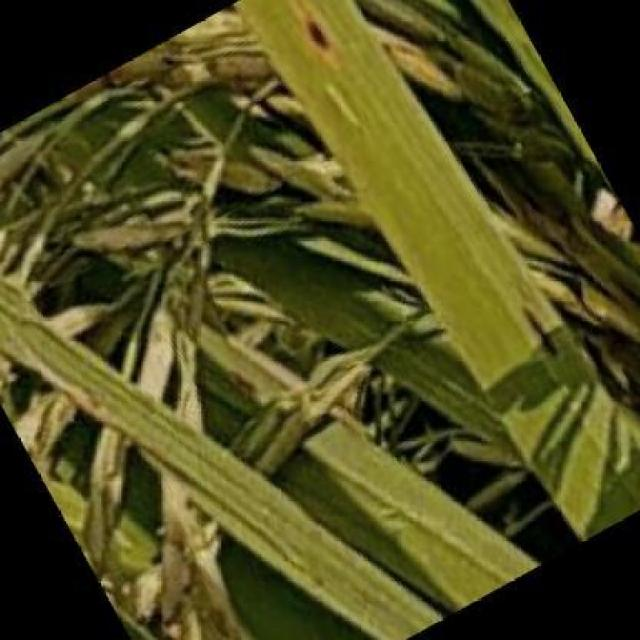Leaf_Blast: (292, 1, 354, 76)
